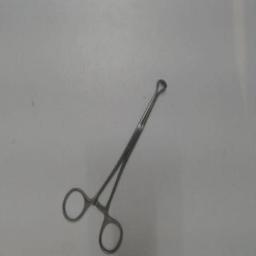Babcock Tissue Forceps: (59, 74, 169, 256)
